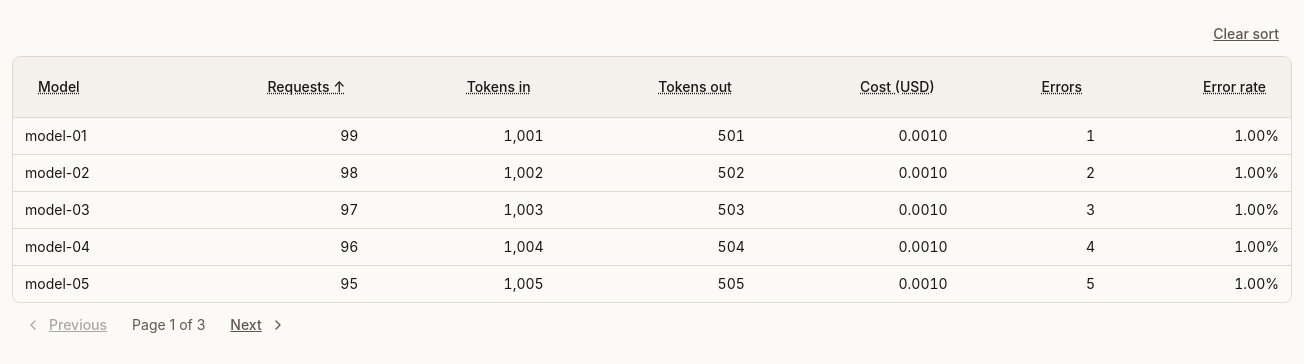
Test: UsageGroupTable paging › orders the whole response before it pages it, so page two is not a second sort
Click the button "Next" at (258, 325), box [217, 303, 299, 347]
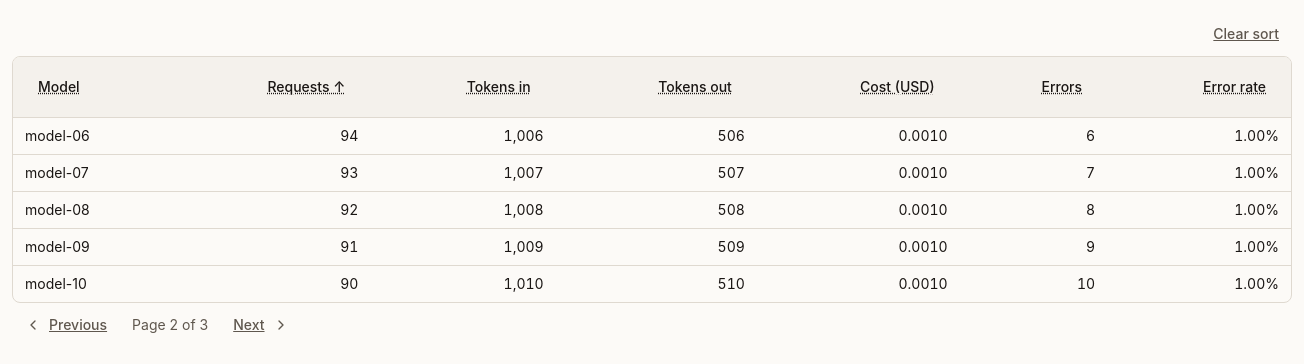
Check: the text "Page 2 of 3" is shown, box [132, 315, 208, 335]
